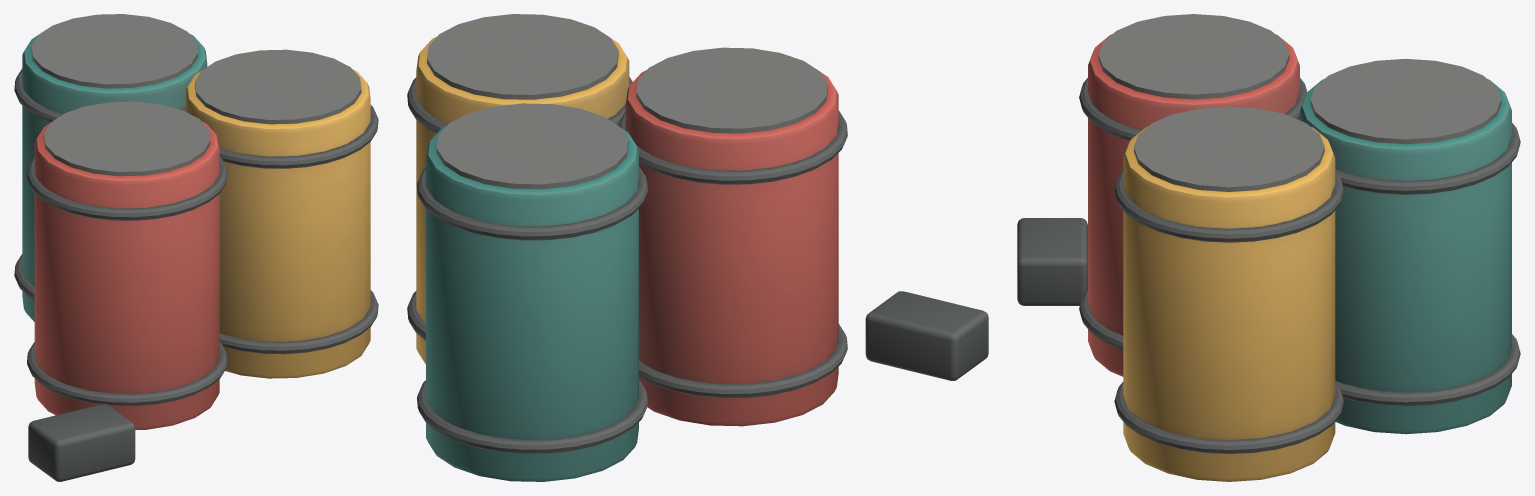
The model's file is OilBarrels.fbx.
3 views of the same model, side by side, from view 1: azimuth 30°, elevation 25°; view 2: azimuth 150°, elevation 25°; view 3: azimuth 270°, elevation 25° (orthographic). The views are drawn at different scales.
Visible parts, largest first — view 1: OilBarrels; view 2: OilBarrels; view 3: OilBarrels.
Boxes of the visible parts, left/top/right/bottom form: OilBarrels: left=14, top=14, right=378, bottom=481; OilBarrels: left=407, top=14, right=988, bottom=481; OilBarrels: left=1017, top=14, right=1520, bottom=481.
Size of the model in its own units: 150 by 91.5 by 143.
